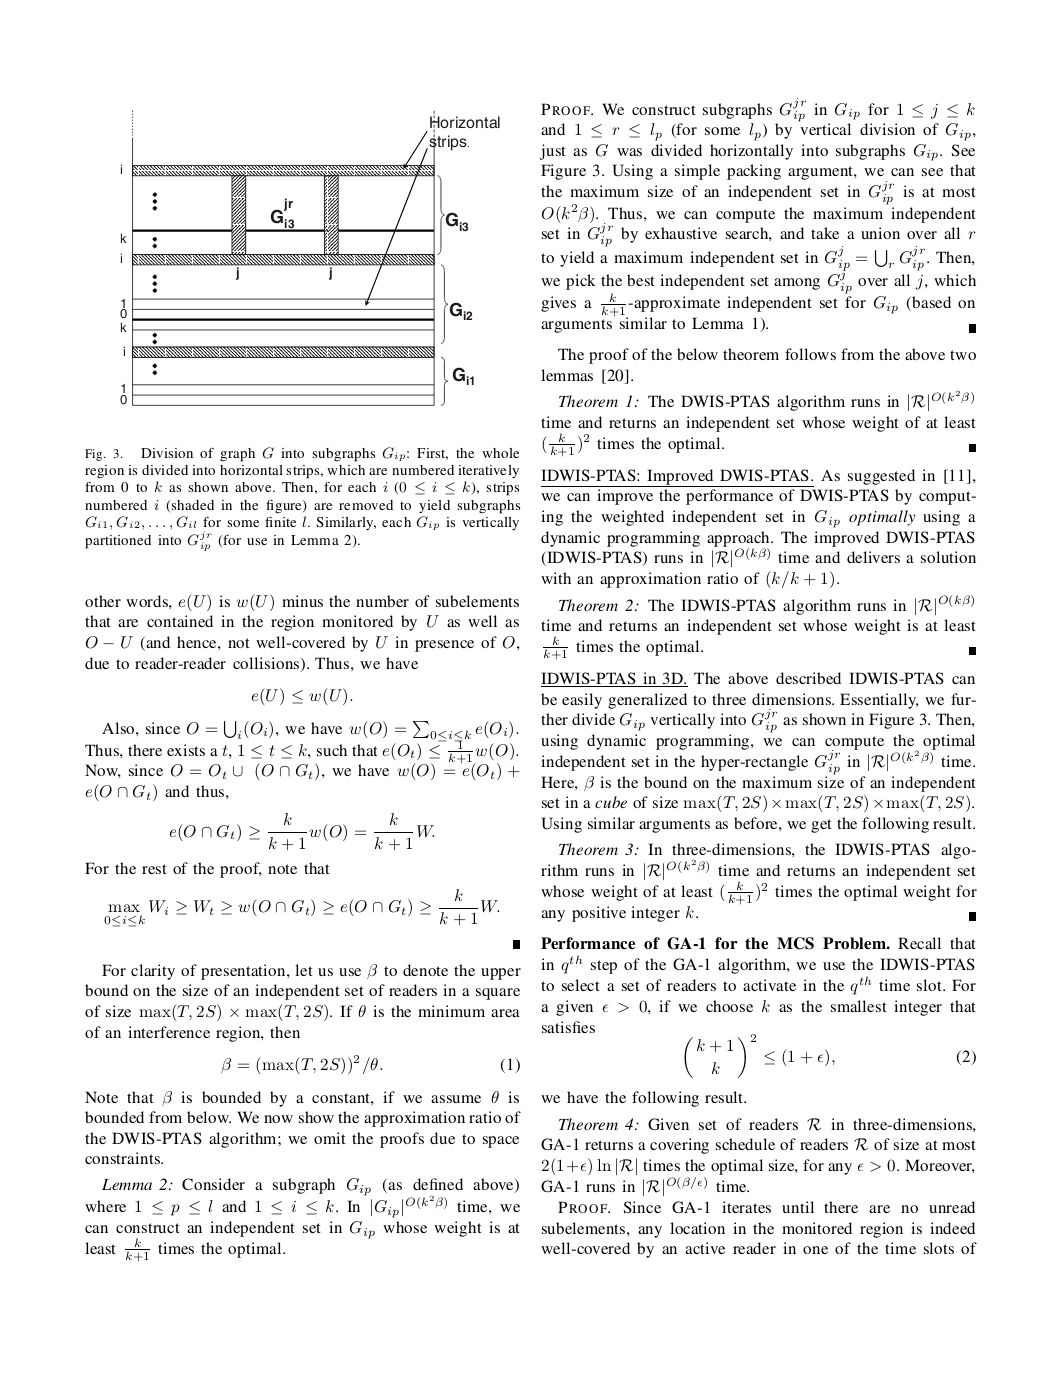figure: (120, 109, 499, 406)
formula: (104, 888, 499, 927), (684, 1033, 975, 1078), (169, 812, 434, 851), (221, 1054, 519, 1075), (251, 686, 352, 705)
